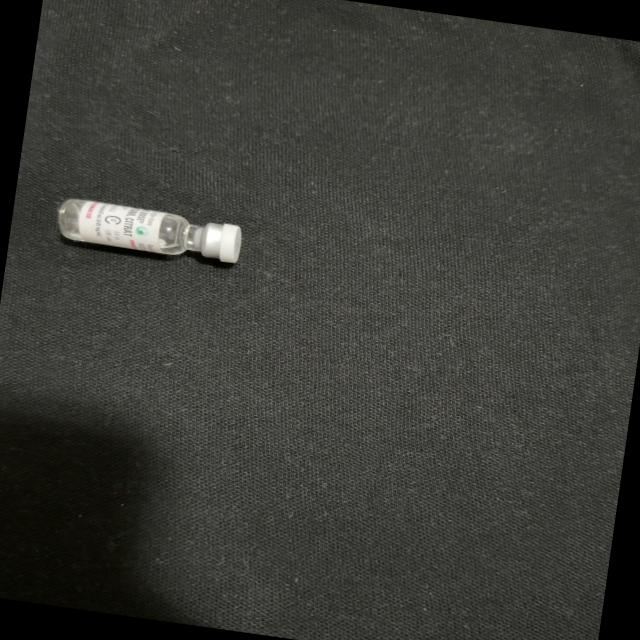fentanl_citrat: (57, 197, 240, 264)
